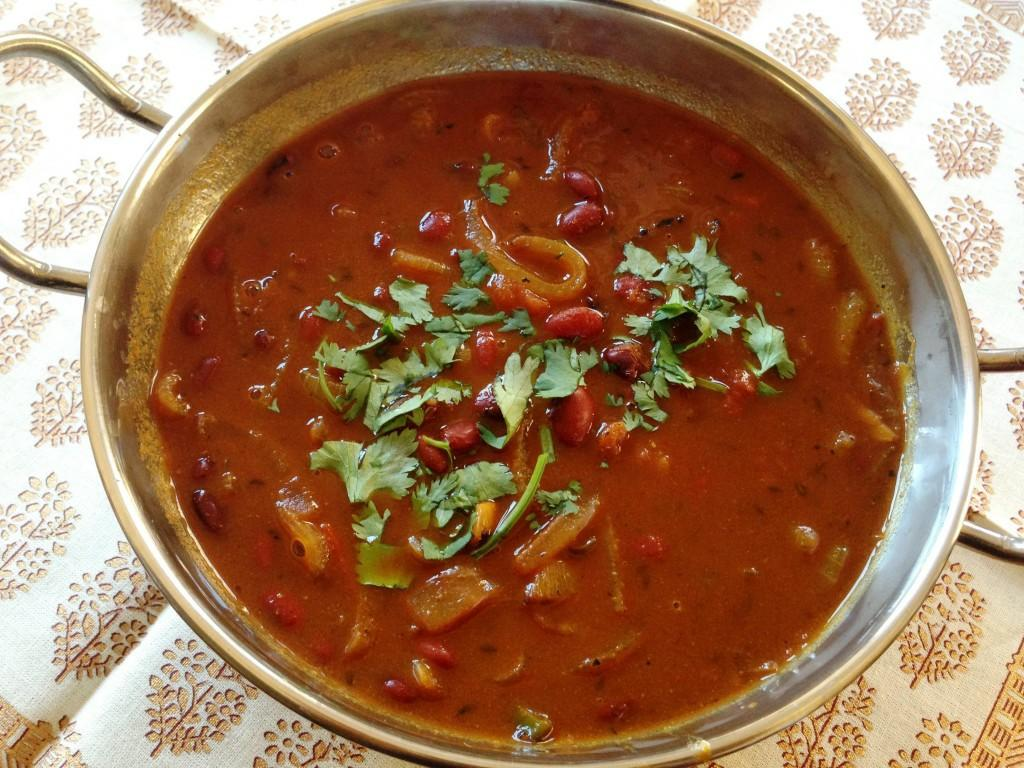RajmaCurry: (161, 71, 906, 739)
